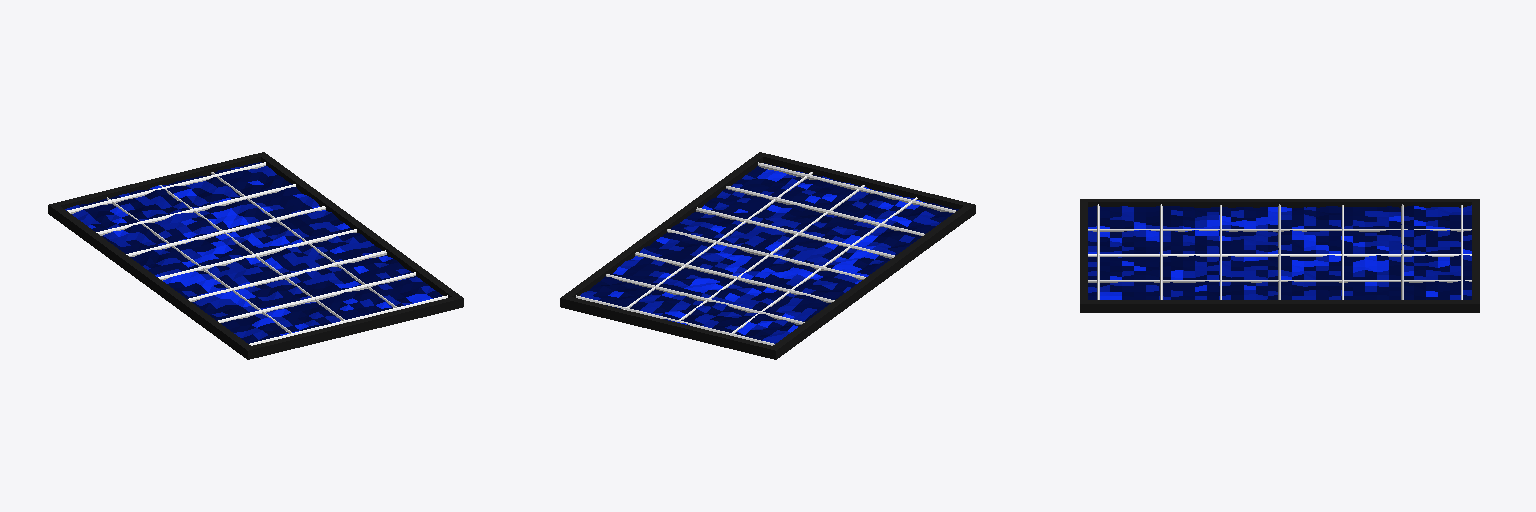
File: solarpanel.obj
3 views of the same model, side by side, from view 1: azimuth 30°, elevation 25°; view 2: azimuth 150°, elevation 25°; view 3: azimuth 270°, elevation 25° (orthographic).
Visible parts, largest first — view 1: Plane; view 2: Plane; view 3: Plane.
Boxes of the visible parts, box(x1,y1,x2,y2) form: Plane: box(48, 152, 463, 359); Plane: box(560, 152, 975, 359); Plane: box(1080, 199, 1479, 312).
Size of the model in its own units: 2.15 by 0.0885 by 3.44.